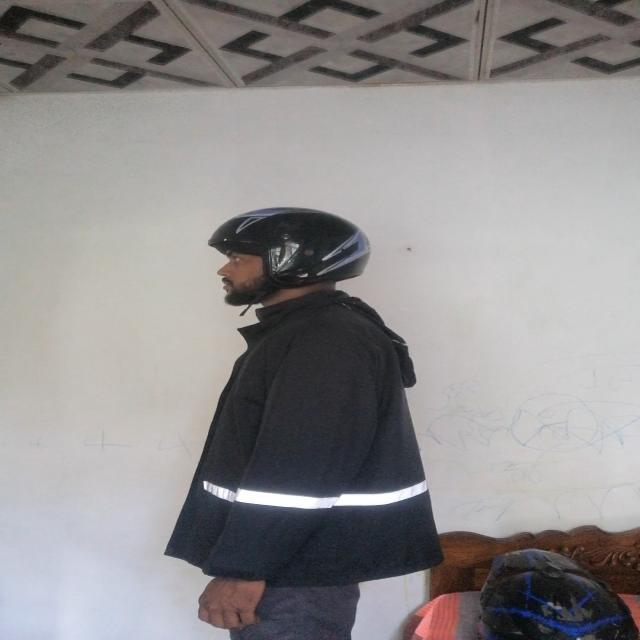Helmet_Wearer: (197, 208, 366, 320)
Jacket_Wearer: (178, 297, 443, 589)
Person: (183, 197, 428, 640)
